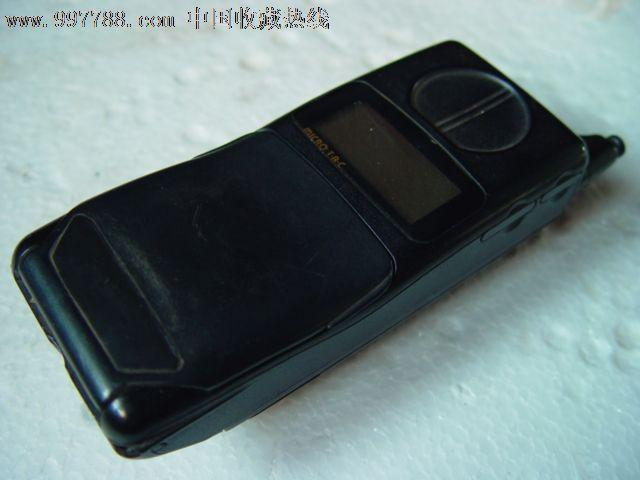phone: (17, 61, 625, 450)
